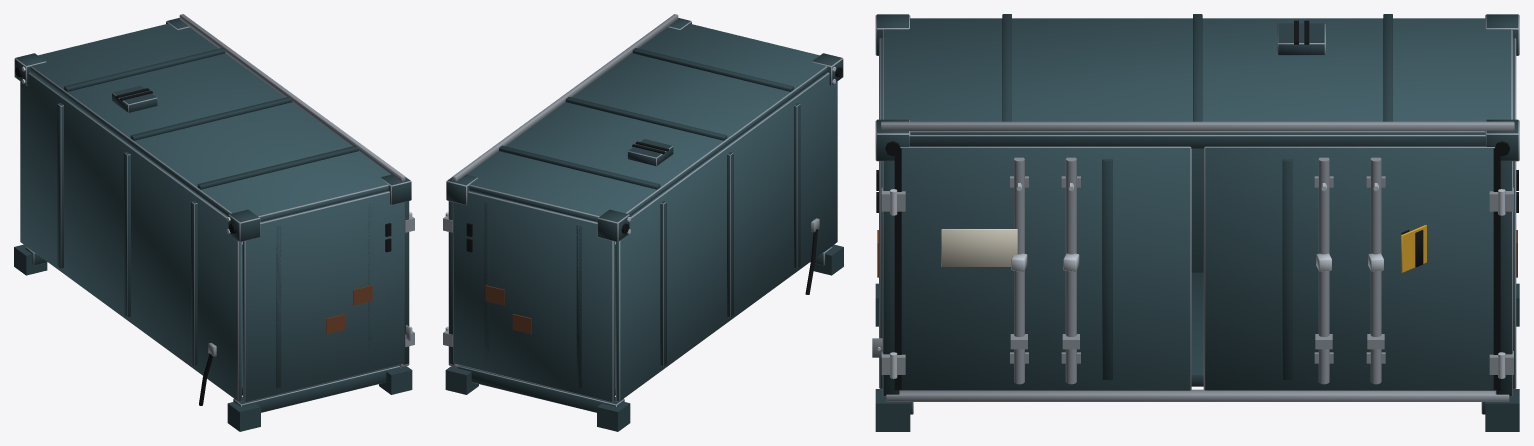
The model's file is contenedor_carga.glb.
The picture shows the model from 3 angles, left to right: view 1: azimuth 30°, elevation 25°; view 2: azimuth 150°, elevation 25°; view 3: azimuth 270°, elevation 25°; orthographic projection. The views are drawn at different scales.
Parts seen in each view (by area): view 1: panel_trasero, techo, panel_lateral_1, larguero_1, canal_lluvia, nervio_trasero_2, nervio_trasero_3, nervio_trasero_1, nervio_techo_2, nervio_techo_1, nervio_techo_3, nervio_lateral_1 (+8 smaller); view 2: panel_trasero, techo, panel_lateral_2, larguero_2, canal_lluvia, nervio_trasero_1, nervio_trasero_2, nervio_trasero_3, nervio_techo_2, nervio_techo_1, nervio_techo_3, nervio_lateral_3 (+9 smaller); view 3: hoja_puerta_2, techo, hoja_puerta_1, dintel, canal_lluvia, umbral, placa_etiqueta, jamba_1, jamba_2, nervio_puerta_1, nervio_puerta_2, barra_cierre_3 (+20 smaller).
Part boxes in pixels (x1=…): panel_trasero: x1=20, y1=72, x2=241, y2=401; techo: x1=30, y1=23, x2=390, y2=221; panel_lateral_1: x1=243, y1=191, x2=404, y2=402; larguero_1: x1=233, y1=365, x2=400, y2=412; canal_lluvia: x1=179, y1=14, x2=405, y2=181; nervio_trasero_2: x1=124, y1=152, x2=130, y2=317; nervio_trasero_3: x1=57, y1=103, x2=63, y2=268; nervio_trasero_1: x1=191, y1=201, x2=197, y2=366; nervio_techo_2: x1=130, y1=97, x2=292, y2=140; nervio_techo_1: x1=197, y1=145, x2=358, y2=189; nervio_techo_3: x1=64, y1=48, x2=225, y2=91; nervio_lateral_1: x1=276, y1=225, x2=281, y2=388; panel_trasero: x1=616, y1=72, x2=837, y2=401; techo: x1=467, y1=23, x2=827, y2=221; panel_lateral_2: x1=453, y1=191, x2=614, y2=402; larguero_2: x1=457, y1=365, x2=624, y2=412; canal_lluvia: x1=452, y1=14, x2=678, y2=181; nervio_trasero_1: x1=794, y1=103, x2=800, y2=268; nervio_trasero_2: x1=727, y1=152, x2=733, y2=317; nervio_trasero_3: x1=660, y1=201, x2=666, y2=366; nervio_techo_2: x1=565, y1=97, x2=727, y2=140; nervio_techo_1: x1=632, y1=48, x2=793, y2=91; nervio_techo_3: x1=499, y1=145, x2=660, y2=189; nervio_lateral_3: x1=576, y1=225, x2=581, y2=388; hoja_puerta_2: x1=1203, y1=146, x2=1494, y2=390; techo: x1=882, y1=18, x2=1512, y2=132; hoja_puerta_1: x1=900, y1=146, x2=1191, y2=390; dintel: x1=909, y1=132, x2=1486, y2=148; canal_lluvia: x1=881, y1=121, x2=1514, y2=131; umbral: x1=886, y1=389, x2=1509, y2=401; placa_etiqueta: x1=941, y1=229, x2=1017, y2=266; jamba_1: x1=882, y1=161, x2=899, y2=396; jamba_2: x1=1495, y1=161, x2=1512, y2=396; nervio_puerta_1: x1=1102, y1=159, x2=1112, y2=380; nervio_puerta_2: x1=1282, y1=159, x2=1292, y2=380; barra_cierre_3: x1=1318, y1=157, x2=1329, y2=384.
Size of the model in its own units: 0.9122 by 1.01 by 1.87.
